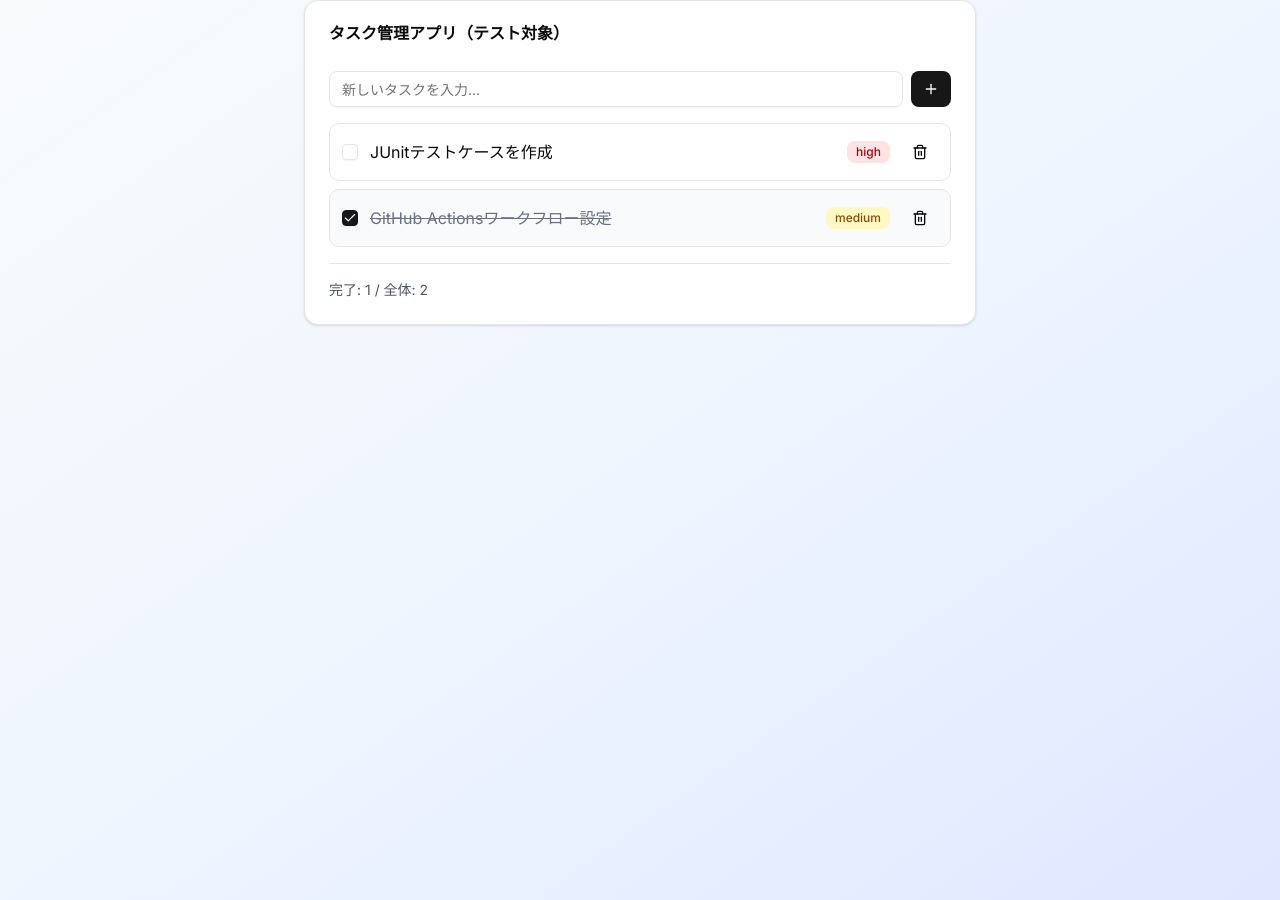
Test case: TaskManager Component › shows correct task statistics
Check: the text "完了: 1 / 全体: 2" is shown, box [329,281,428,298]
未完了のタスクを完了にする
Step 1. Click the checkbox with test id "task-checkbox-1" → (350, 152), box [342,144,358,160]
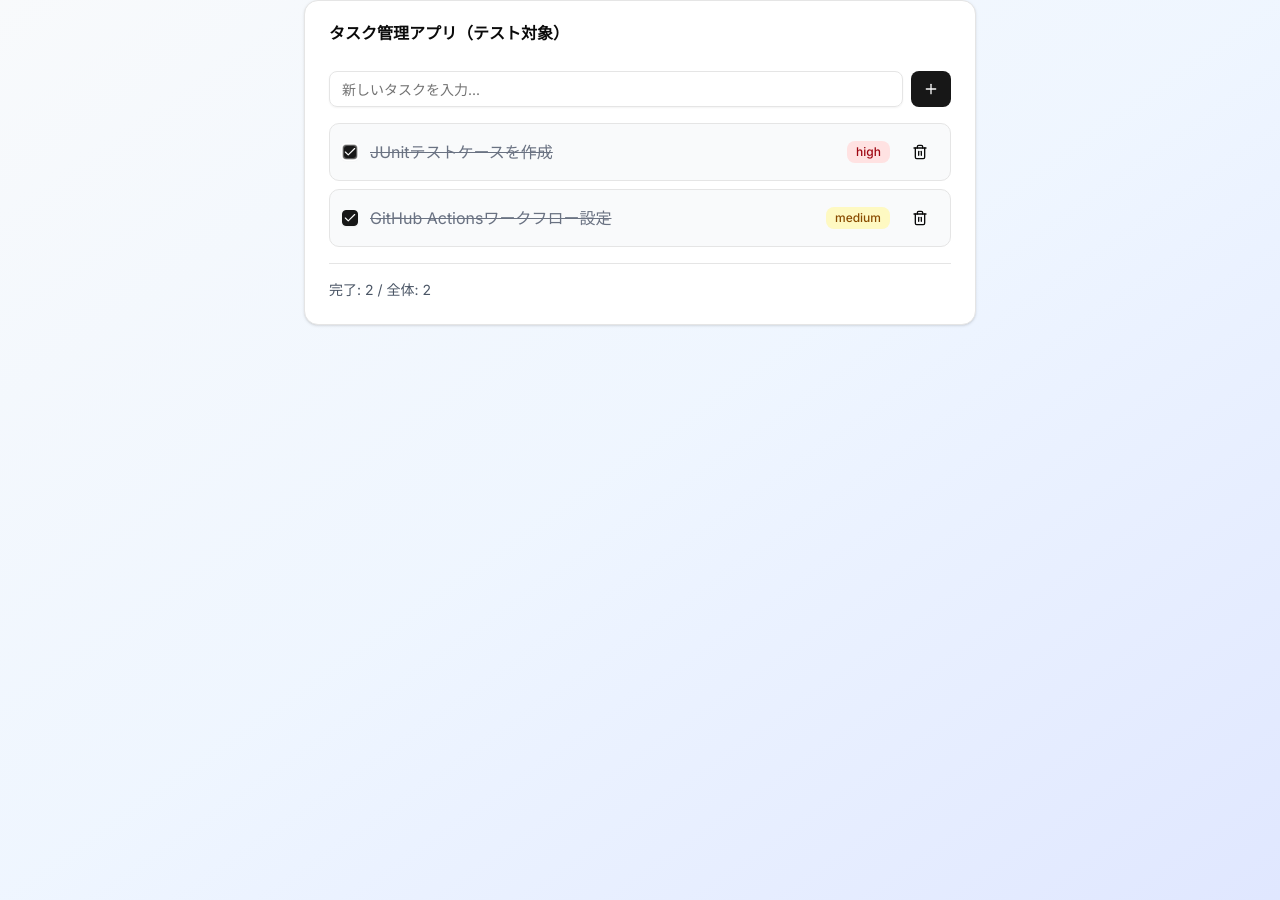
Check: the text "完了: 2 / 全体: 2" is shown, box [329,281,431,298]
